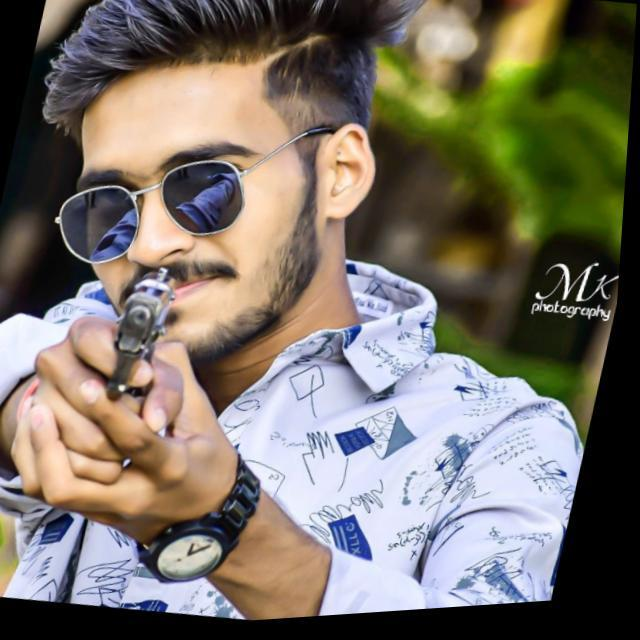weapon: (76, 255, 200, 478)
